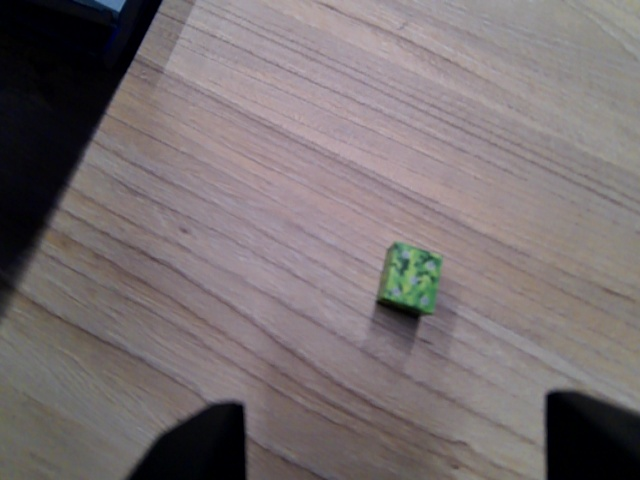grass: (374, 238, 445, 318)
